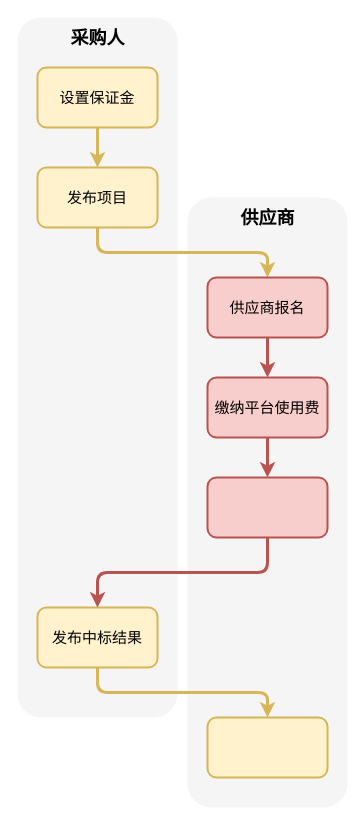
Some shapes in this 364 by 824 pixel diagram are drawn without their labels. Each missing label, with the box of its shape:
缴纳保证金: (206, 476, 328, 538)
缴纳服务费: (206, 716, 328, 778)
